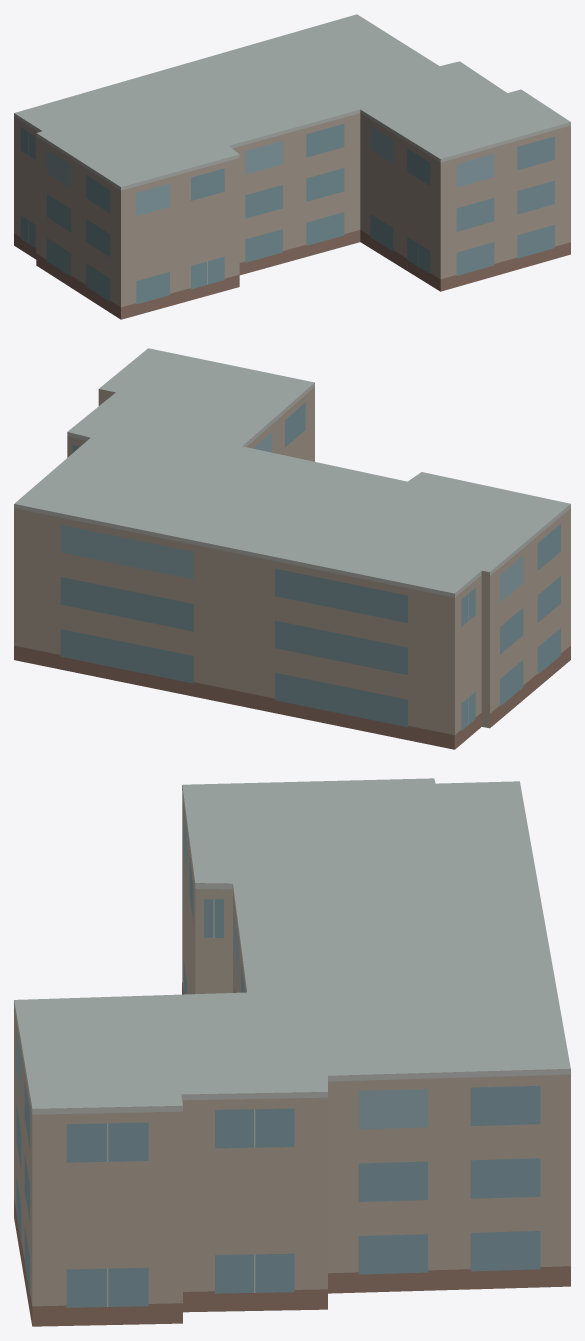
File: survey-upis-32928784.glb
The picture shows the model from 3 angles, top to bottom: view 1: azimuth 30°, elevation 25°; view 2: azimuth 150°, elevation 25°; view 3: azimuth 270°, elevation 25°; orthographic projection. The views are drawn at different scales.
Visible parts, largest first — view 1: survey-upis-32928784.tmp; view 2: survey-upis-32928784.tmp; view 3: survey-upis-32928784.tmp.
Part boxes in pixels (left/top/right/bottom): survey-upis-32928784.tmp: left=14, top=14, right=570, bottom=319; survey-upis-32928784.tmp: left=14, top=348, right=570, bottom=749; survey-upis-32928784.tmp: left=14, top=778, right=570, bottom=1326.
Bounding box in the file's own units: 29.79 × 9.15 × 21.21.
